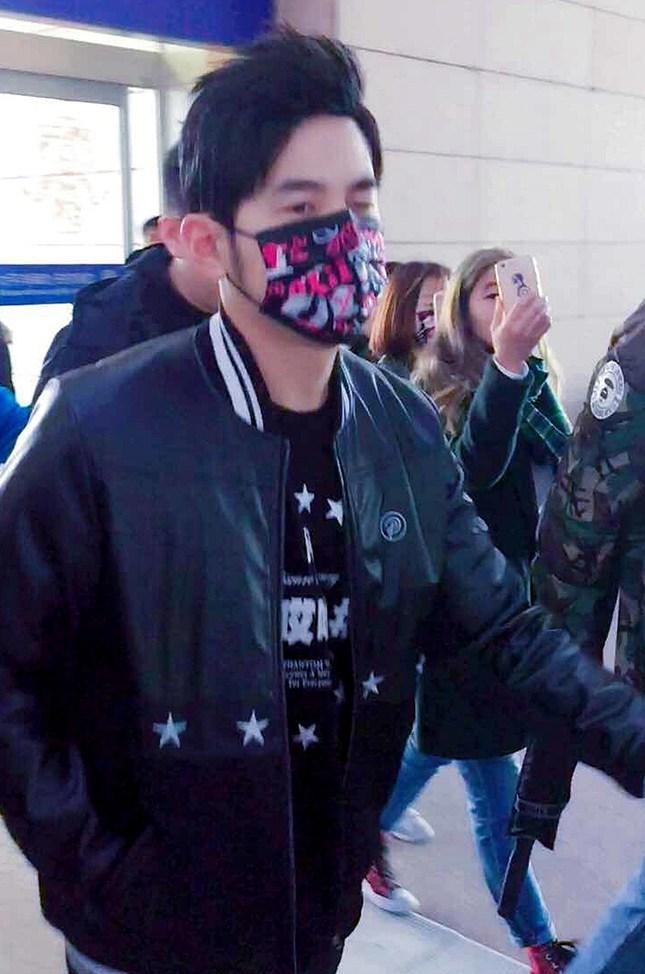NONE: (474, 276, 536, 349)
OK: (208, 157, 389, 338), (407, 291, 461, 348)
